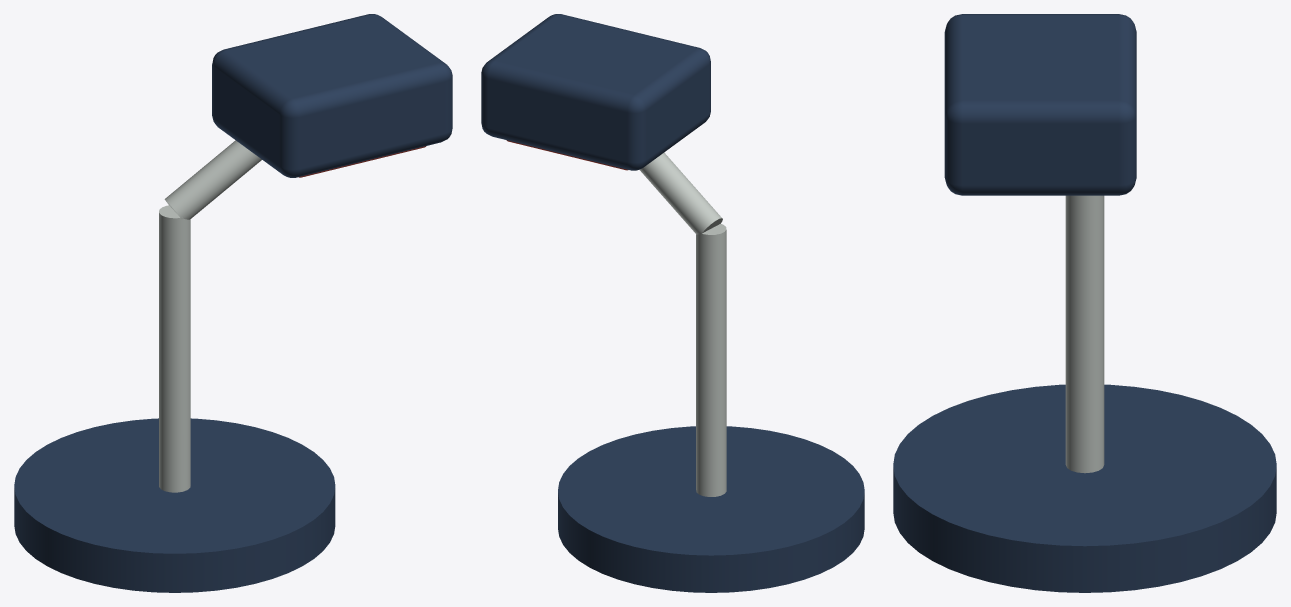
The model's file is planetarium-and-optical-observatory-red-inspection-lam-afe3914c__31861.glb.
The picture shows the model from 3 angles, left to right: view 1: azimuth 30°, elevation 25°; view 2: azimuth 150°, elevation 25°; view 3: azimuth 270°, elevation 25°; orthographic projection. The views are drawn at different scales.
Visible parts, largest first — view 1: red-inspection-lamp; view 2: red-inspection-lamp; view 3: red-inspection-lamp.
Boxes of the visible parts, x1,y1,x2,y2 form: red-inspection-lamp: (14,14,452,592); red-inspection-lamp: (481,14,864,592); red-inspection-lamp: (893,14,1276,592).
Bounding box in the file's own units: 0.34 × 0.4 × 0.26.
